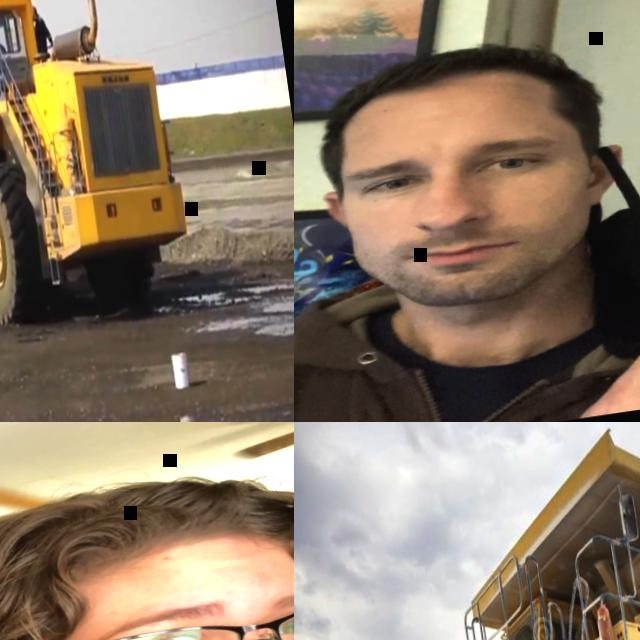NO-Hardhat: (0, 452, 294, 635), (316, 32, 612, 140), (32, 5, 37, 11)
NO-Mask: (328, 173, 632, 322)
NO-Safety Vest: (294, 278, 640, 422), (33, 18, 47, 52)
Person: (294, 8, 640, 422), (0, 449, 294, 640), (31, 2, 54, 54), (0, 31, 7, 54)
vehicle: (0, 0, 201, 350), (415, 422, 640, 640)
